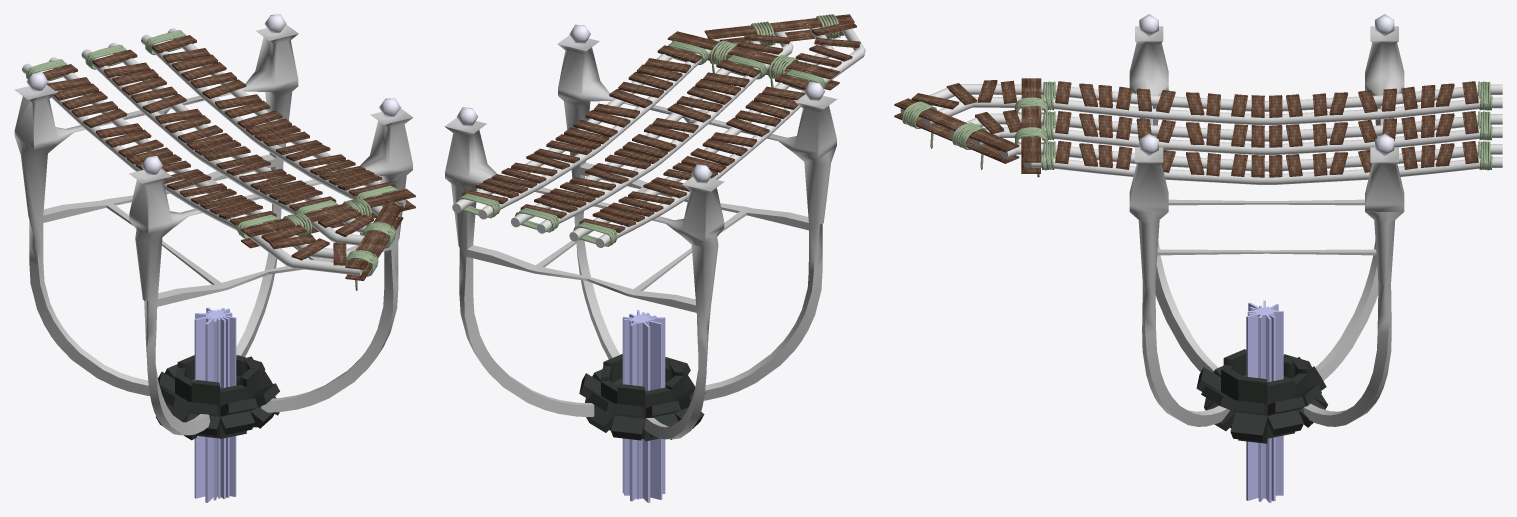
The model's file is 3_bridge_right.fbx.
3 renders of one model, left to right at view 1: azimuth 30°, elevation 25°; view 2: azimuth 150°, elevation 25°; view 3: azimuth 270°, elevation 25°, orthographic. The views are drawn at different scales.
Visible parts, largest first — view 1: 3_right_base, gravityring, 3_right_LaR, 3_right_LaM, 3_right_LaL, 3_right_LaR_c, 3_right_verschlag, 3_right_verschlag_02, 3_right_LaM_c, 3_right_verschlag_02_ropes, 3_right_LaL_ropes, 3_right_LaR_ropes (+2 smaller); view 2: 3_right_base, gravityring, 3_right_LaR, 3_right_LaM, 3_right_LaL, 3_right_LaR_c, 3_right_verschlag, 3_right_verschlag_02, 3_right_LaM_c, 3_right_LaR_ropes, 3_right_LaM_ropes, 3_right_ropevertical (+2 smaller); view 3: 3_right_base, gravityring, 3_right_LaL, 3_right_LaM, 3_right_LaR, 3_right_LaR_c, 3_right_verschlag_02, 3_right_verschlag, 3_right_LaM_c, 3_right_verschlag_02_ropes, 3_right_LaR_ropes, 3_right_ropevertical (+2 smaller).
Boxes of the visible parts, x1,y1,x2,y2 form: 3_right_base: [14, 14, 413, 435]; gravityring: [156, 307, 279, 502]; 3_right_LaR: [141, 28, 397, 208]; 3_right_LaM: [81, 42, 336, 214]; 3_right_LaL: [22, 57, 277, 239]; 3_right_LaR_c: [251, 224, 369, 275]; 3_right_verschlag: [241, 188, 415, 248]; 3_right_verschlag_02: [345, 204, 403, 280]; 3_right_LaM_c: [311, 208, 386, 247]; 3_right_verschlag_02_ropes: [346, 222, 395, 290]; 3_right_LaL_ropes: [26, 59, 279, 238]; 3_right_LaR_ropes: [145, 30, 398, 205]; 3_right_base: [444, 24, 837, 439]; gravityring: [579, 310, 705, 502]; 3_right_LaR: [452, 45, 711, 219]; 3_right_LaM: [511, 59, 769, 233]; 3_right_LaL: [569, 74, 829, 247]; 3_right_LaR_c: [795, 21, 865, 81]; 3_right_verschlag: [667, 31, 839, 90]; 3_right_verschlag_02: [704, 14, 854, 43]; 3_right_LaM_c: [736, 31, 793, 65]; 3_right_LaR_ropes: [456, 40, 708, 218]; 3_right_LaM_ropes: [515, 54, 767, 232]; 3_right_ropevertical: [709, 40, 798, 87]; 3_right_base: [1129, 14, 1404, 426]; gravityring: [1196, 300, 1327, 502]; 3_right_LaL: [1041, 81, 1502, 124]; 3_right_LaM: [1041, 111, 1502, 154]; 3_right_LaR: [1031, 141, 1502, 184]; 3_right_LaR_c: [900, 80, 1021, 125]; 3_right_verschlag_02: [894, 98, 1019, 163]; 3_right_verschlag: [1021, 78, 1041, 173]; 3_right_LaM_c: [950, 109, 1022, 147]; 3_right_verschlag_02_ropes: [902, 101, 987, 169]; 3_right_LaR_ropes: [1041, 141, 1492, 170]; 3_right_ropevertical: [1014, 97, 1047, 177].
Size of what is drawn, in the model's own units: 82 by 117 by 155.
7 materials, 1 textured.
